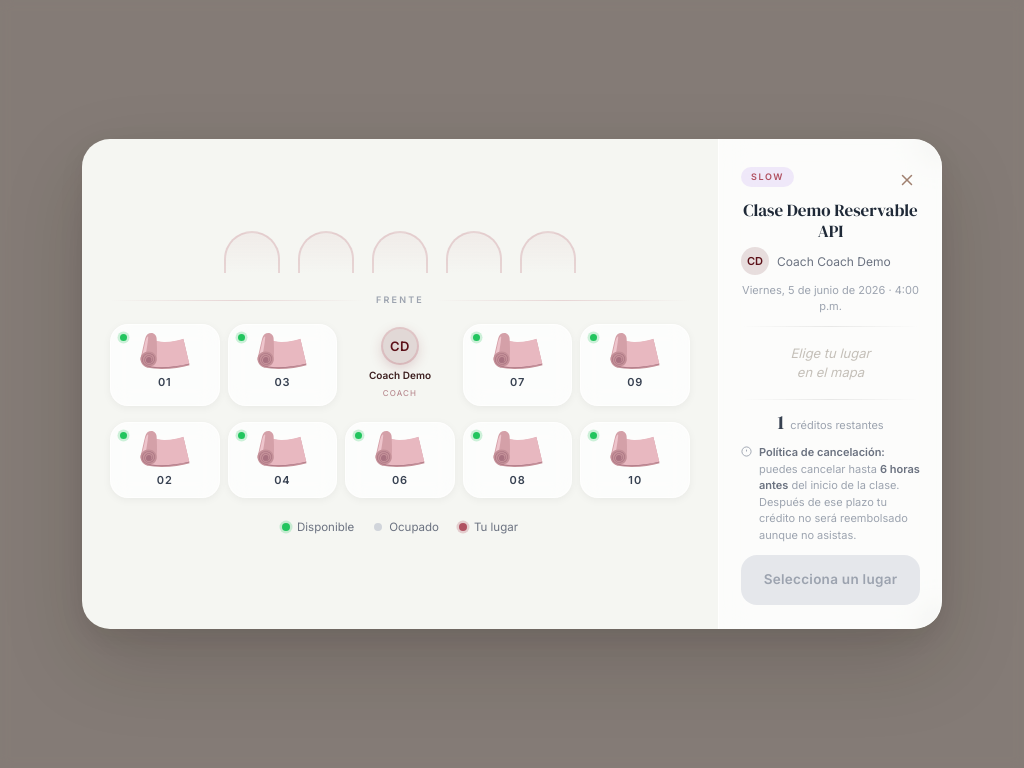
Test: EquipmentReservationPanel › si toca el mismo spot seleccionado, lo deselecciona
Click the button with test id "slow-spot-01".
click(165, 365)  # box [110, 324, 220, 406]
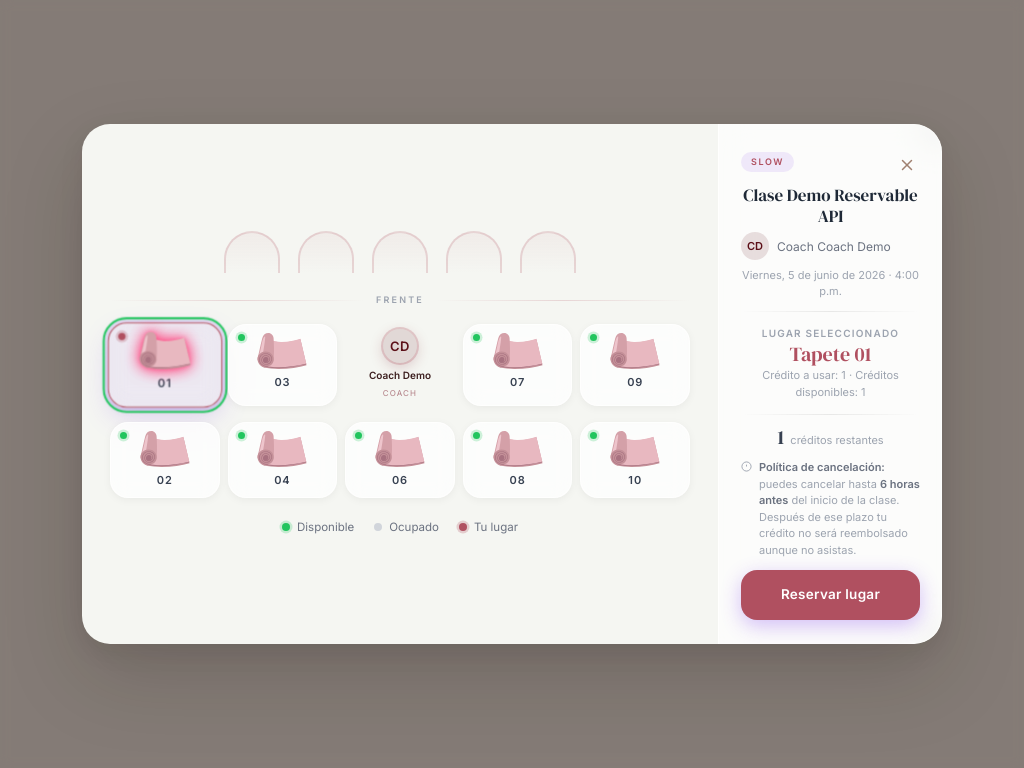
Click the button with test id "slow-spot-01".
click(165, 365)  # box [108, 322, 222, 407]
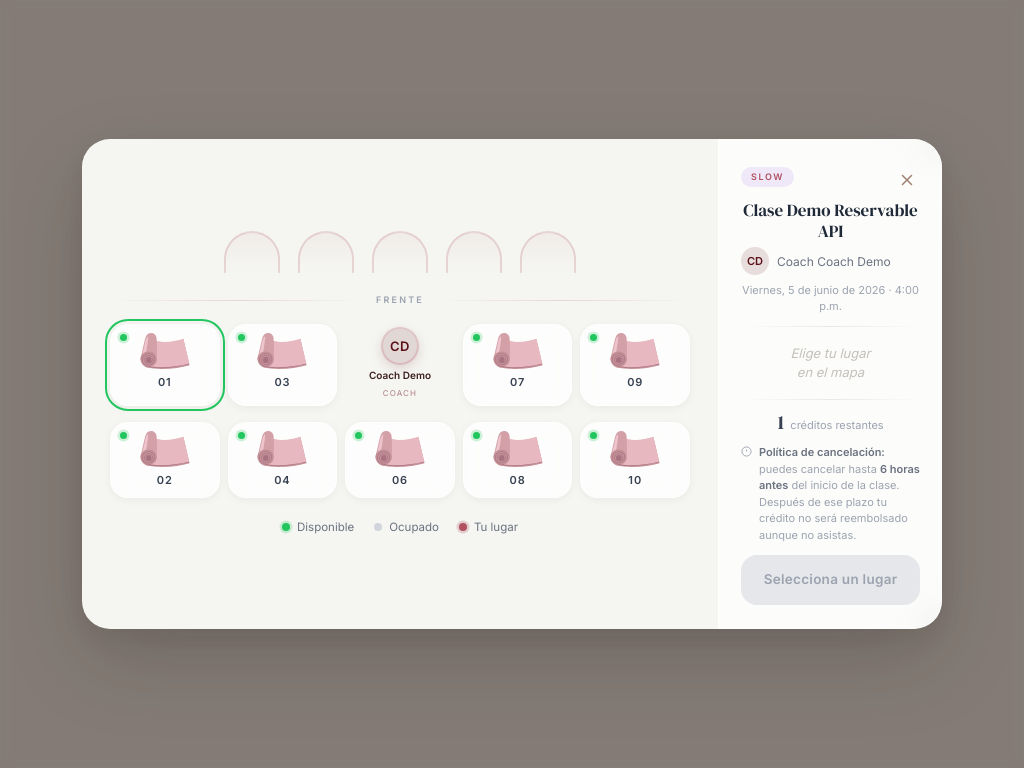
Expected: the text "Lugar seleccionado" is gone
